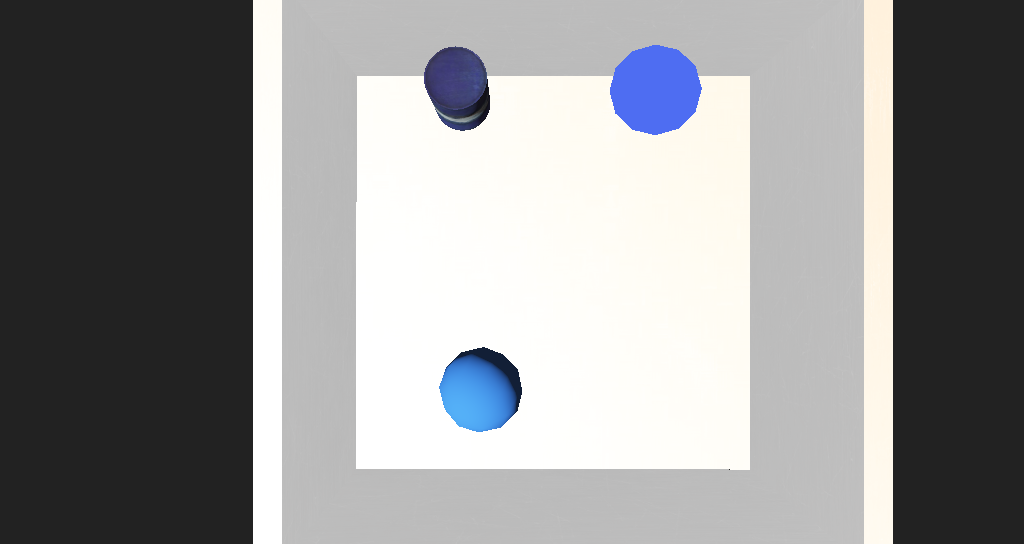cone: (404, 150, 458, 193)
cylinder: (542, 150, 616, 203)
sphere: (421, 305, 482, 353)
